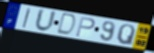9: (100, 21, 116, 43)
D: (55, 12, 78, 37)
I: (21, 7, 33, 29)
P: (74, 16, 96, 38)
Q: (116, 24, 137, 47)
U: (34, 8, 58, 33)
